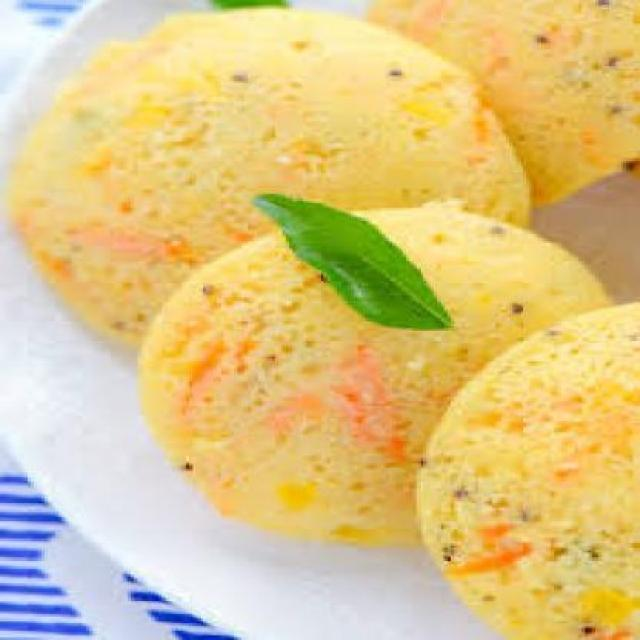idli: (12, 8, 532, 354), (137, 206, 609, 548), (412, 301, 639, 640), (361, 0, 640, 207)
